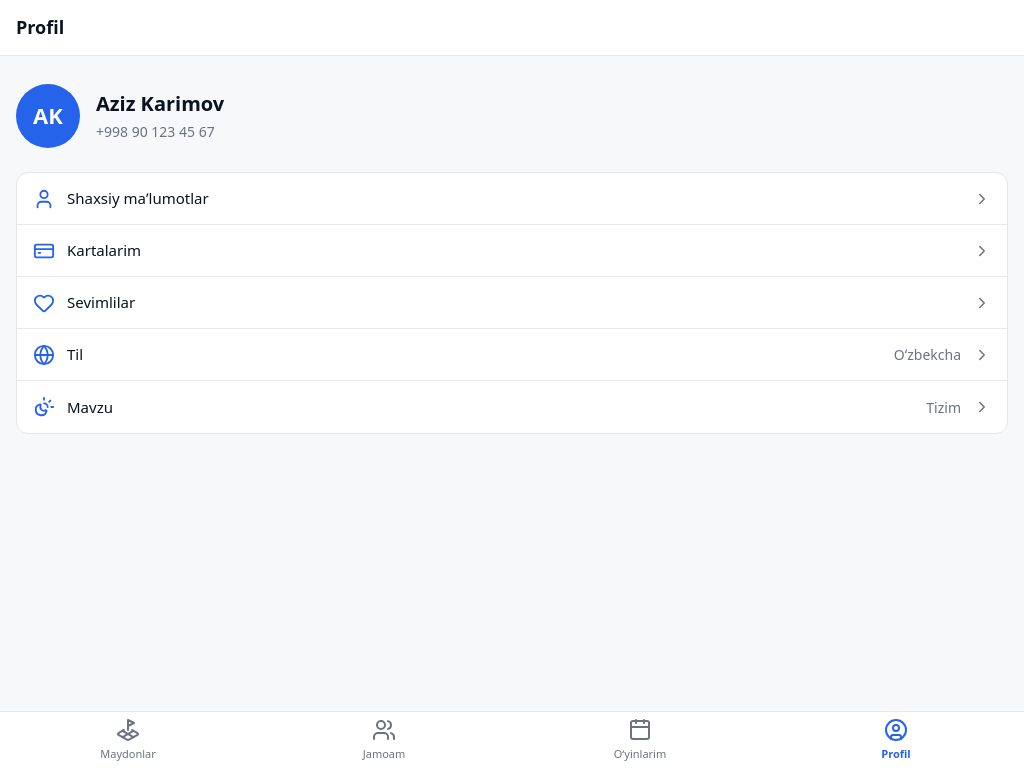
Scenario: Profil › switches the theme from the Mavzu sheet
What coordinates should you click on to do the following:
click the button "Mavzu Tizim"
I would click on:
 (90, 406)
Its box is [17,381,1007,433].
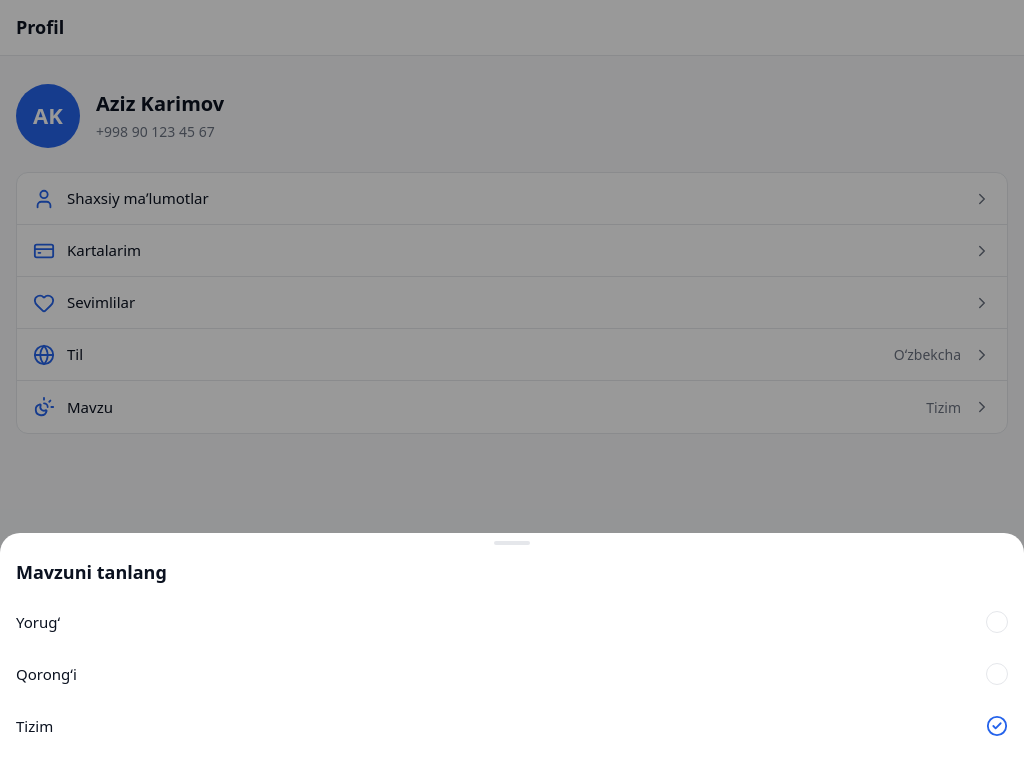
Expected: the radio button labelled "Tizim" is checked, [16,700,1008,752]
What coordinates should you click on to do the following:
click the radio button labelled "Qorongʻi"
I would click on:
 (46, 674)
Its box is [16,648,1008,700].
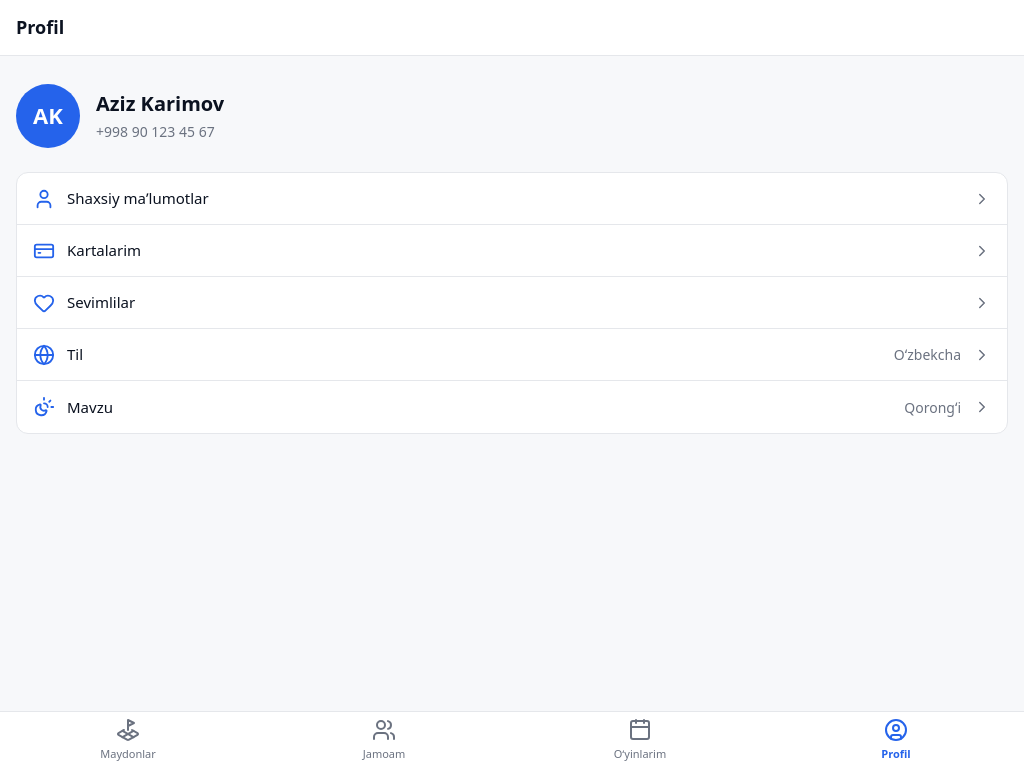
Expected: the button "Mavzu Qorongʻi" is shown, [17,381,1007,433]
